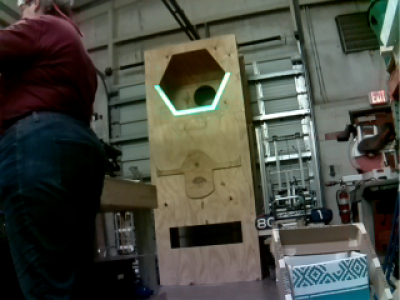target: (155, 72, 230, 116)
